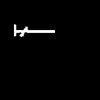double_crochet: (14, 25, 54, 36)
